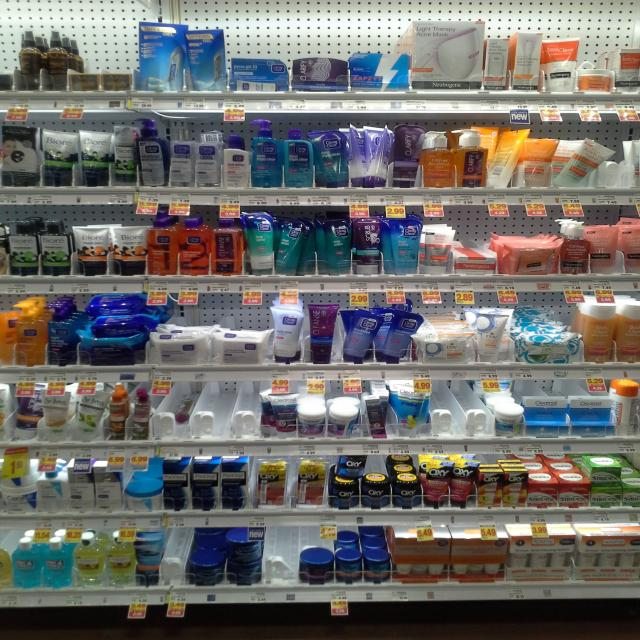unorganised: (14, 383, 107, 441), (341, 302, 422, 363), (278, 211, 352, 277), (481, 126, 530, 192), (183, 28, 229, 95), (554, 138, 613, 189), (347, 121, 391, 189), (239, 208, 278, 277), (262, 385, 301, 439), (521, 135, 557, 191), (475, 307, 510, 363), (365, 396, 394, 438), (329, 407, 360, 438), (336, 451, 366, 480)
